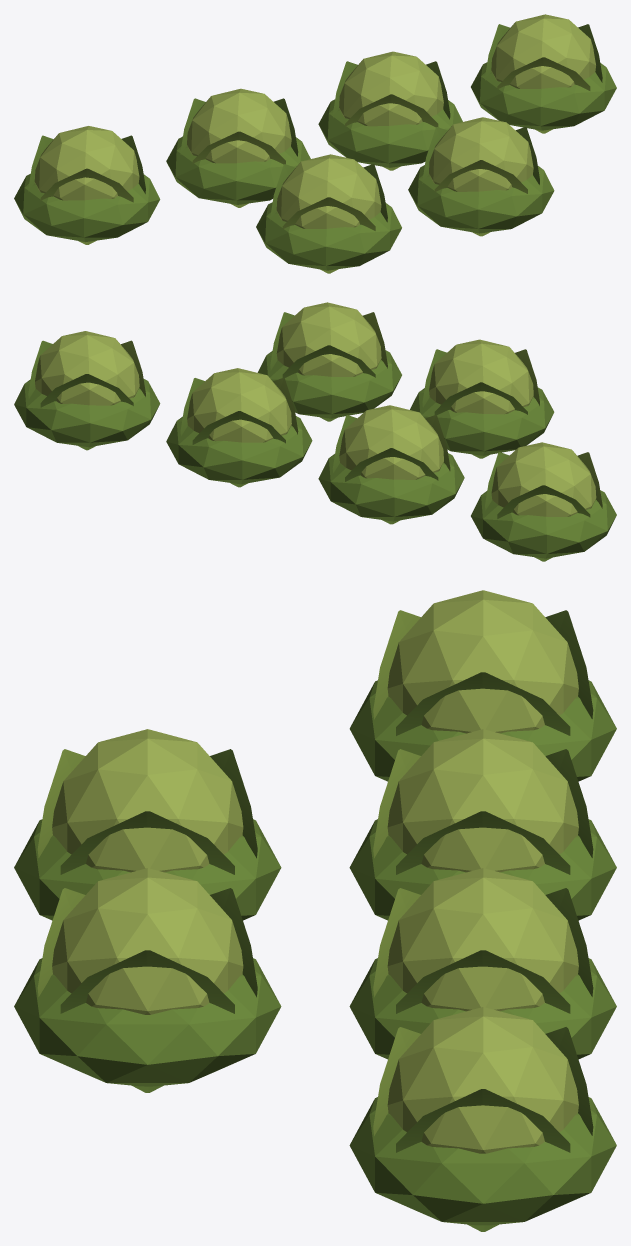
File: pile-lettuce-6.gltf
The picture shows the model from 3 angles, top to bottom: view 1: azimuth 30°, elevation 25°; view 2: azimuth 150°, elevation 25°; view 3: azimuth 270°, elevation 25°; orthographic projection. The views are drawn at different scales.
Visible parts, largest first — view 1: pile-lettuce-6; view 2: pile-lettuce-6; view 3: pile-lettuce-6.
Part boxes in pixels (left/top/right/bottom): pile-lettuce-6: left=14, top=14, right=616, bottom=273; pile-lettuce-6: left=14, top=302, right=616, bottom=561; pile-lettuce-6: left=14, top=590, right=616, bottom=1231.
Bounding box in the file's own units: 0.9216 × 0.1512 × 0.4403.
